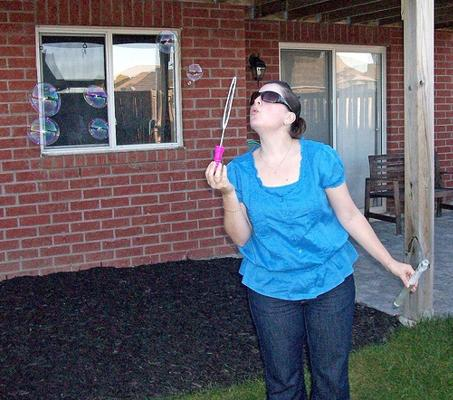person: (206, 72, 433, 400)
